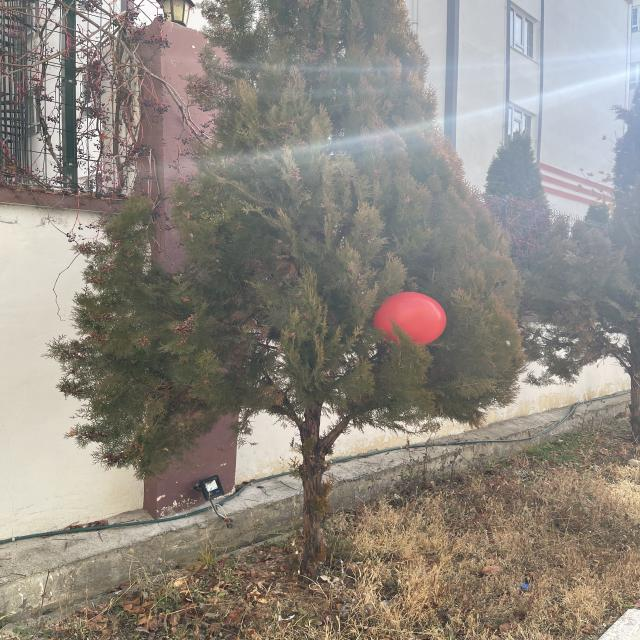balloon: (373, 292, 446, 344)
